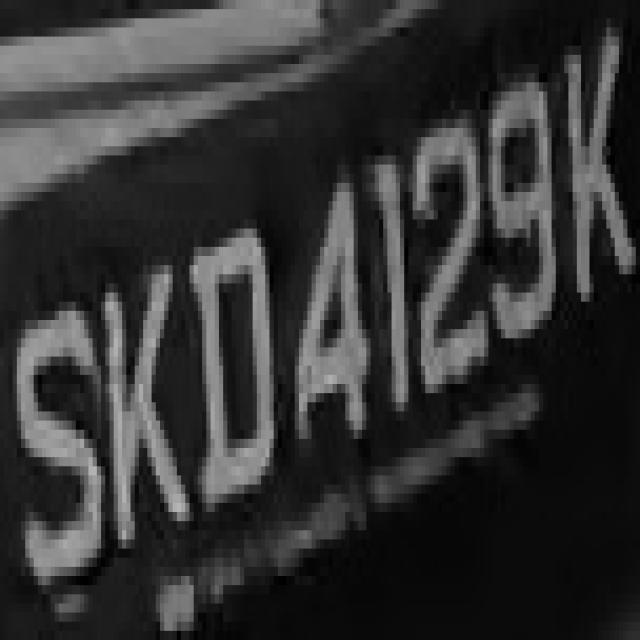1: (370, 119, 412, 430)
2: (404, 100, 480, 430)
4: (274, 128, 374, 448)
9: (472, 55, 564, 366)
D: (181, 210, 282, 512)
K: (88, 256, 185, 585), (551, 18, 640, 338)
S: (4, 274, 105, 604)
